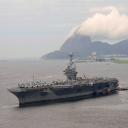Portanaves: (6, 48, 121, 109)
